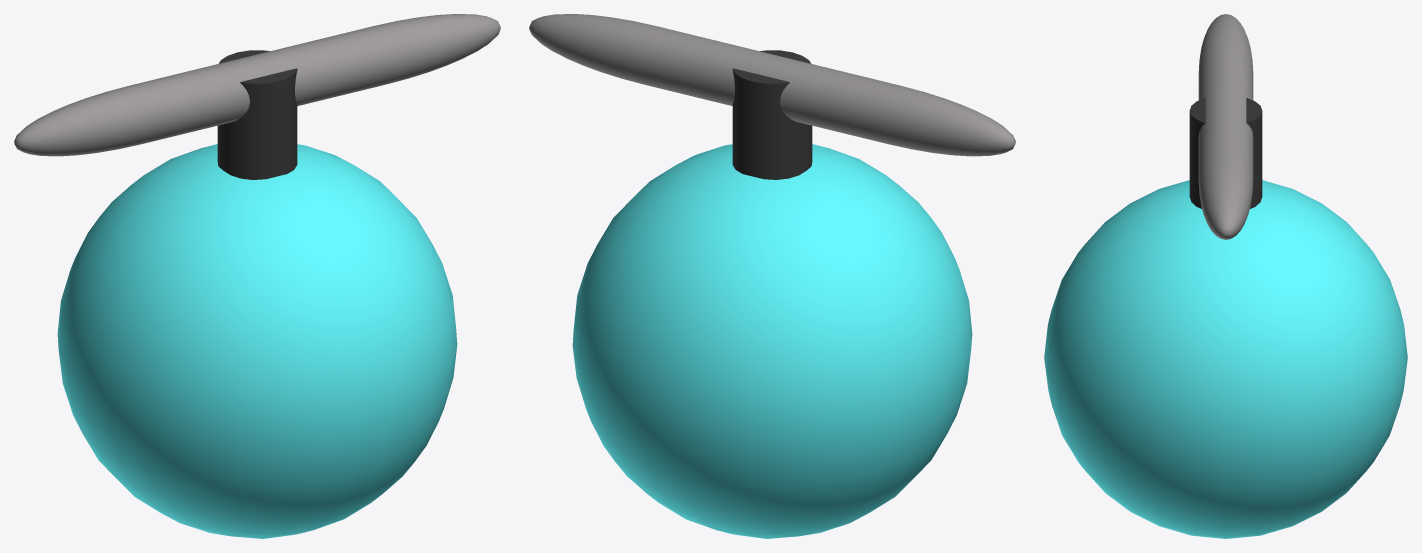
File: Player.fbx
3 views of the same model, side by side, from view 1: azimuth 30°, elevation 25°; view 2: azimuth 150°, elevation 25°; view 3: azimuth 270°, elevation 25° (orthographic). The views are drawn at different scales.
Visible parts, largest first — view 1: Body, HorizontalAxis, VerticalAxis; view 2: Body, HorizontalAxis, VerticalAxis; view 3: Body, HorizontalAxis, VerticalAxis.
Boxes of the visible parts, <box> form: Body: <box>57,144,457,538</box>; HorizontalAxis: <box>14,14,500,156</box>; VerticalAxis: <box>217,50,297,179</box>; Body: <box>572,144,972,538</box>; HorizontalAxis: <box>529,14,1015,156</box>; VerticalAxis: <box>732,50,812,179</box>; Body: <box>1044,180,1407,538</box>; HorizontalAxis: <box>1198,14,1253,239</box>; VerticalAxis: <box>1189,98,1262,208</box>.
Size of the model in its own units: 98 by 89.25 by 70.
